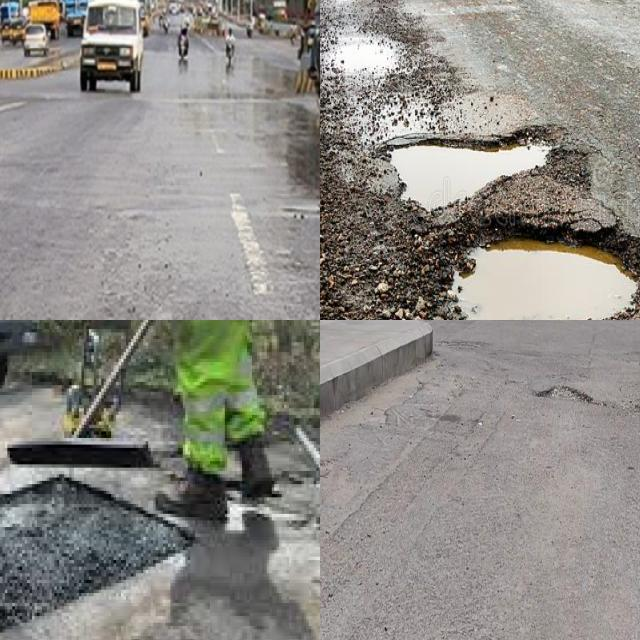Pothole: (0, 478, 193, 635), (450, 241, 640, 320), (406, 146, 547, 210), (533, 381, 594, 404)
